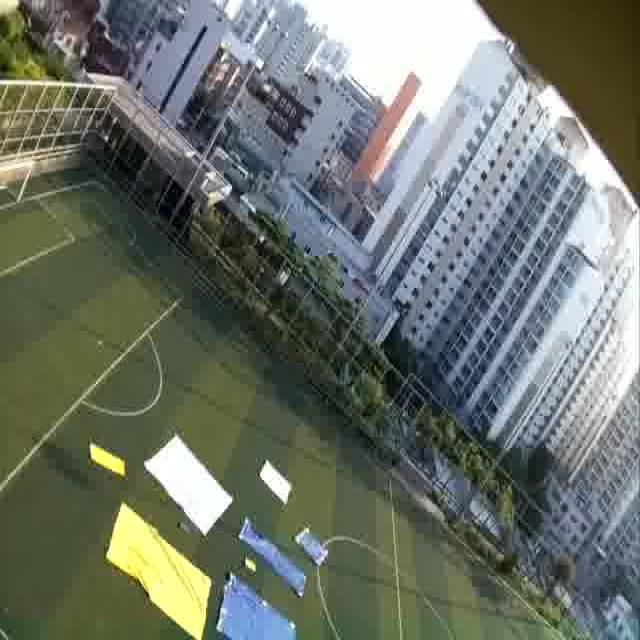danger: (223, 596, 301, 640), (293, 523, 331, 568), (246, 526, 273, 552)
safety: (164, 459, 225, 509), (260, 456, 294, 503)
warning: (124, 548, 196, 612), (86, 447, 130, 477)
